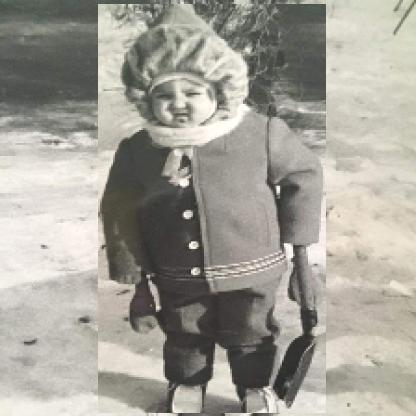child: (99, 5, 328, 415)
